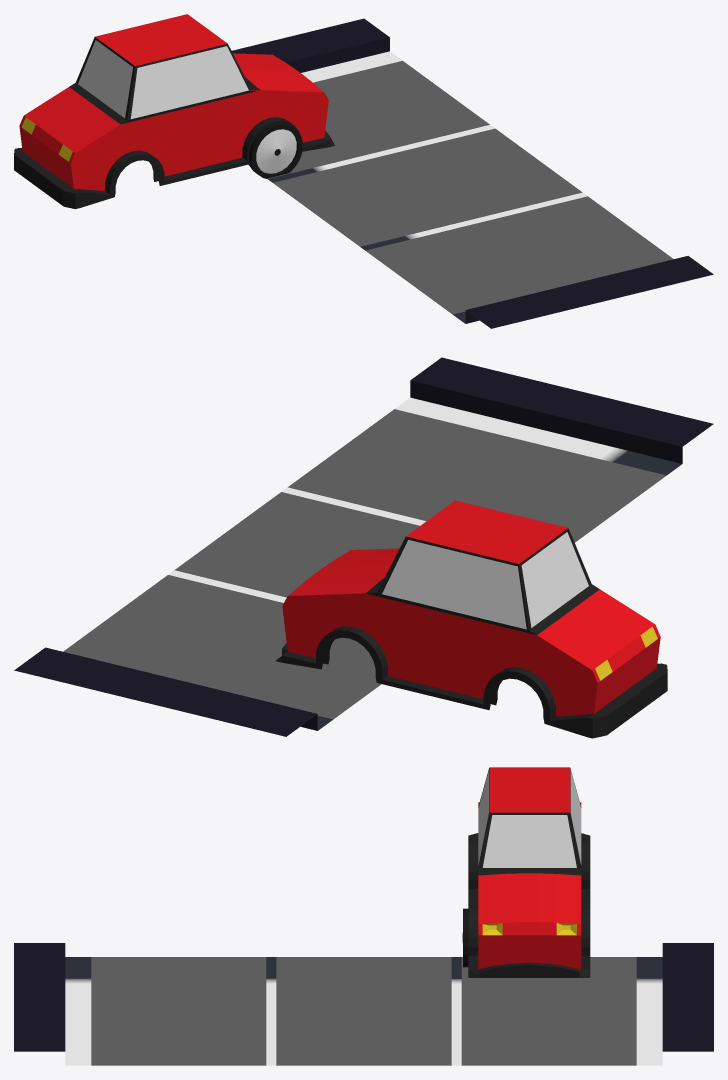
Rendered from road_and_car.fbx.
3 views of the same model, one above another, from view 1: azimuth 30°, elevation 25°; view 2: azimuth 150°, elevation 25°; view 3: azimuth 270°, elevation 25° (orthographic). The views are drawn at different scales.
Visible parts, largest first — view 1: road, Car, Wheel; view 2: road, Car; view 3: road, Car.
Part boxes in pixels (x1=…): road: x1=232, y1=18, x2=713, y2=328; Car: x1=14, y1=14, x2=334, y2=209; Wheel: x1=249, y1=122, x2=302, y2=178; road: x1=14, y1=357, x2=713, y2=736; Car: x1=275, y1=500, x2=667, y2=738; road: x1=14, y1=943, x2=713, y2=1065; Car: x1=468, y1=767, x2=590, y2=977.
Size of the model in its own units: 937 by 289 by 1360.
9 materials, 1 textured.
